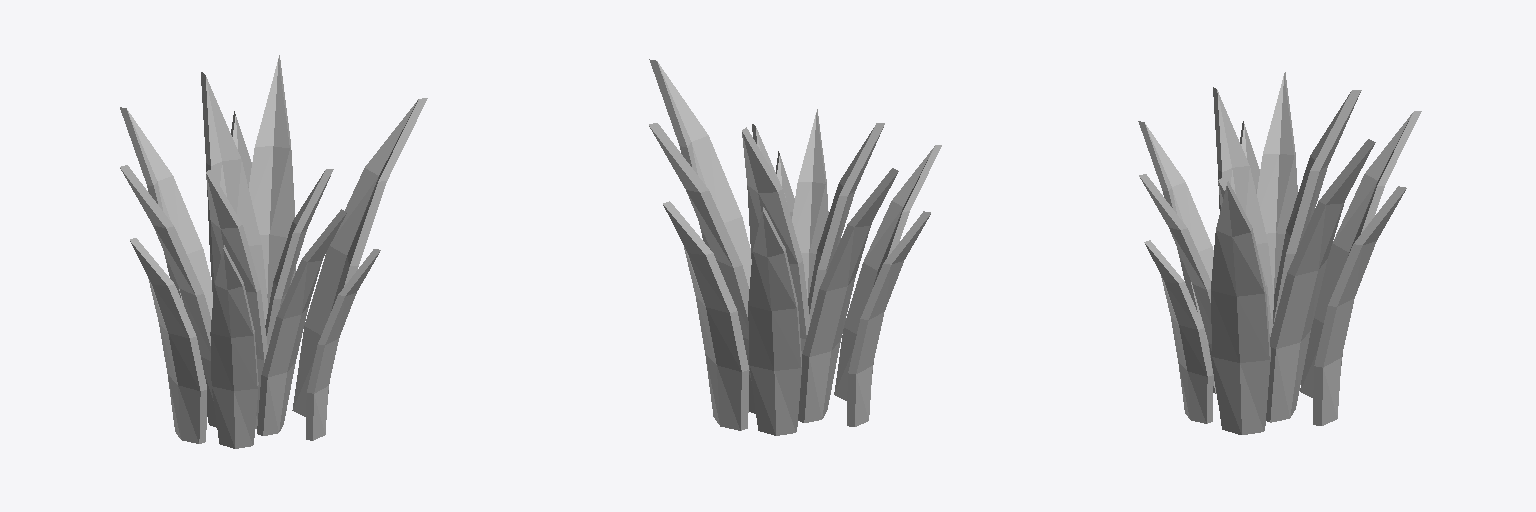
The model's file is Grass_2_C_Color1.obj.
3 views of the same model, side by side, from view 1: azimuth 30°, elevation 25°; view 2: azimuth 150°, elevation 25°; view 3: azimuth 270°, elevation 25° (orthographic).
Parts seen in each view (by area): view 1: Grass_2_C_Color1; view 2: Grass_2_C_Color1; view 3: Grass_2_C_Color1.
Part boxes in pixels (x1,y1,x2,y2): Grass_2_C_Color1: (120,55,427,448); Grass_2_C_Color1: (649,59,941,435); Grass_2_C_Color1: (1138,72,1421,434).
Bounding box in the file's own units: 0.8965 × 0.9352 × 0.7575.